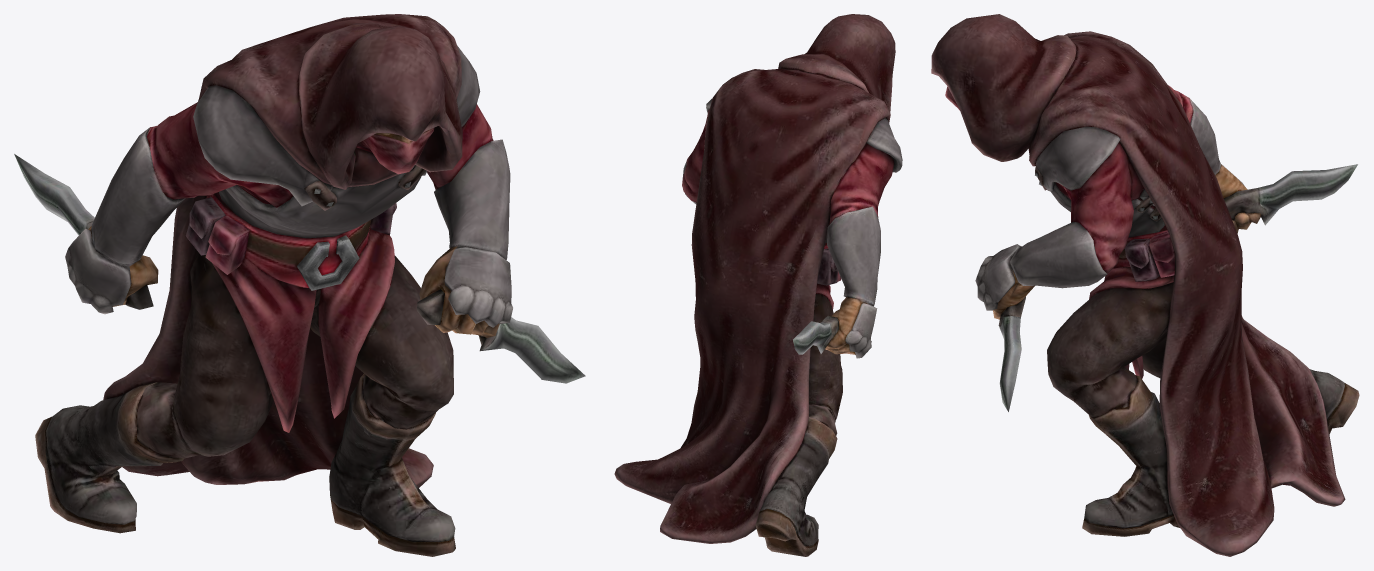
File: MZ4250 - Assassin Male 01.glb
3 views of the same model, side by side, from view 1: azimuth 30°, elevation 25°; view 2: azimuth 150°, elevation 25°; view 3: azimuth 270°, elevation 25° (orthographic). The views are drawn at different scales.
Visible parts, largest first — view 1: AssassinMale01; view 2: AssassinMale01; view 3: AssassinMale01.
Part boxes in pixels (x1,y1,x2,y2): AssassinMale01: (14,14,585,556); AssassinMale01: (614,14,902,556); AssassinMale01: (931,14,1359,556).
Size of the model in its own units: 0.9442 by 1.43 by 1.18.
Materials: 1 (1 with a texture image).
